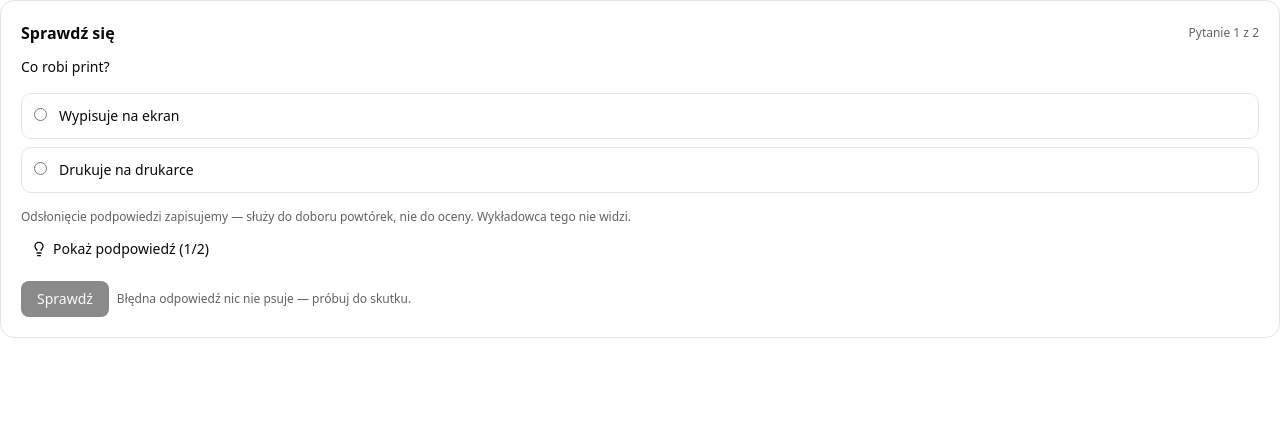
Scenario: ItemRunner › poprawna odpowiedź: wyjaśnienie i przejście do kolejnego pytania
Click the radio button labelled "Wypisuje na ekran".
click(40, 114)  # box [34,108,47,121]
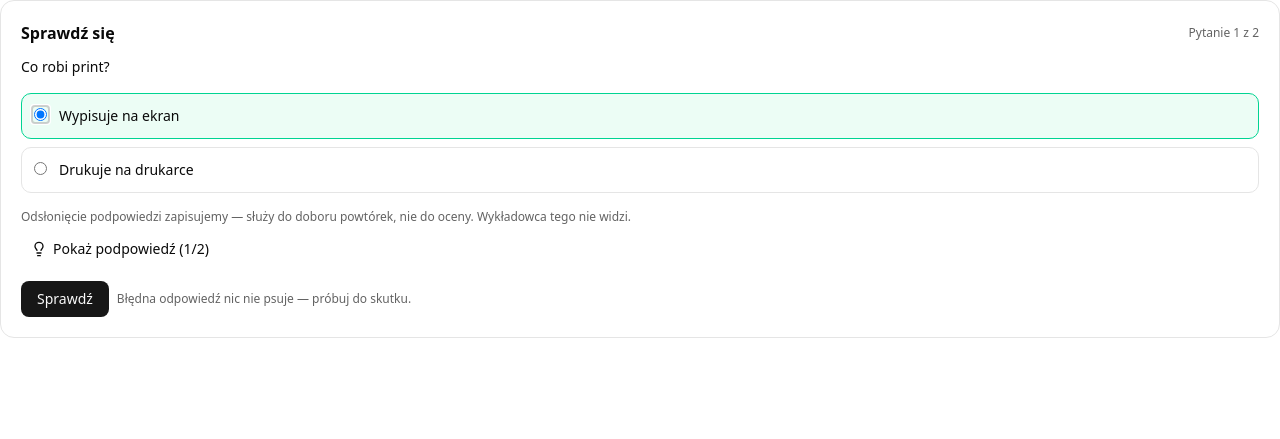
Click the button "Sprawdź".
click(65, 299)  # box [21,281,109,317]
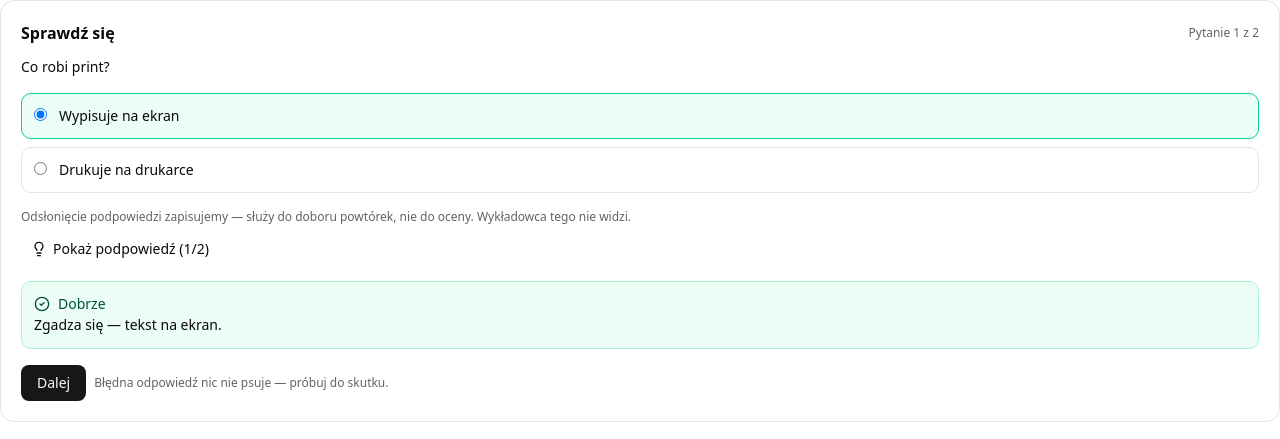
Check: the text "Dobrze" is shown, box [34,294,106,313]
Check: the text "Zgadza się — tekst na ekran." is shown, box [34,315,222,334]
Click the button "Dalej".
click(54, 383)  # box [21,365,86,401]
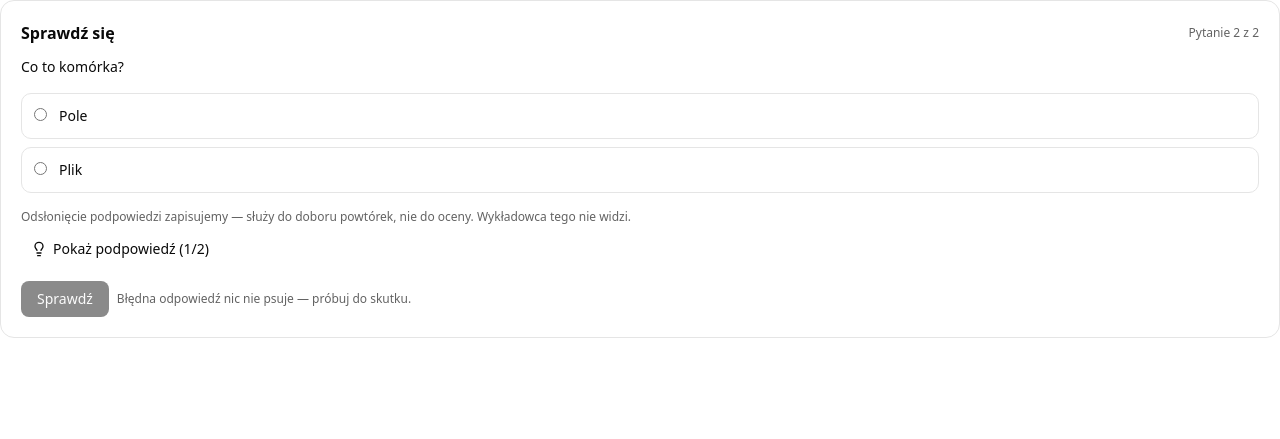
Check: the text "Co to komórka?" is shown, box [21,57,124,76]
